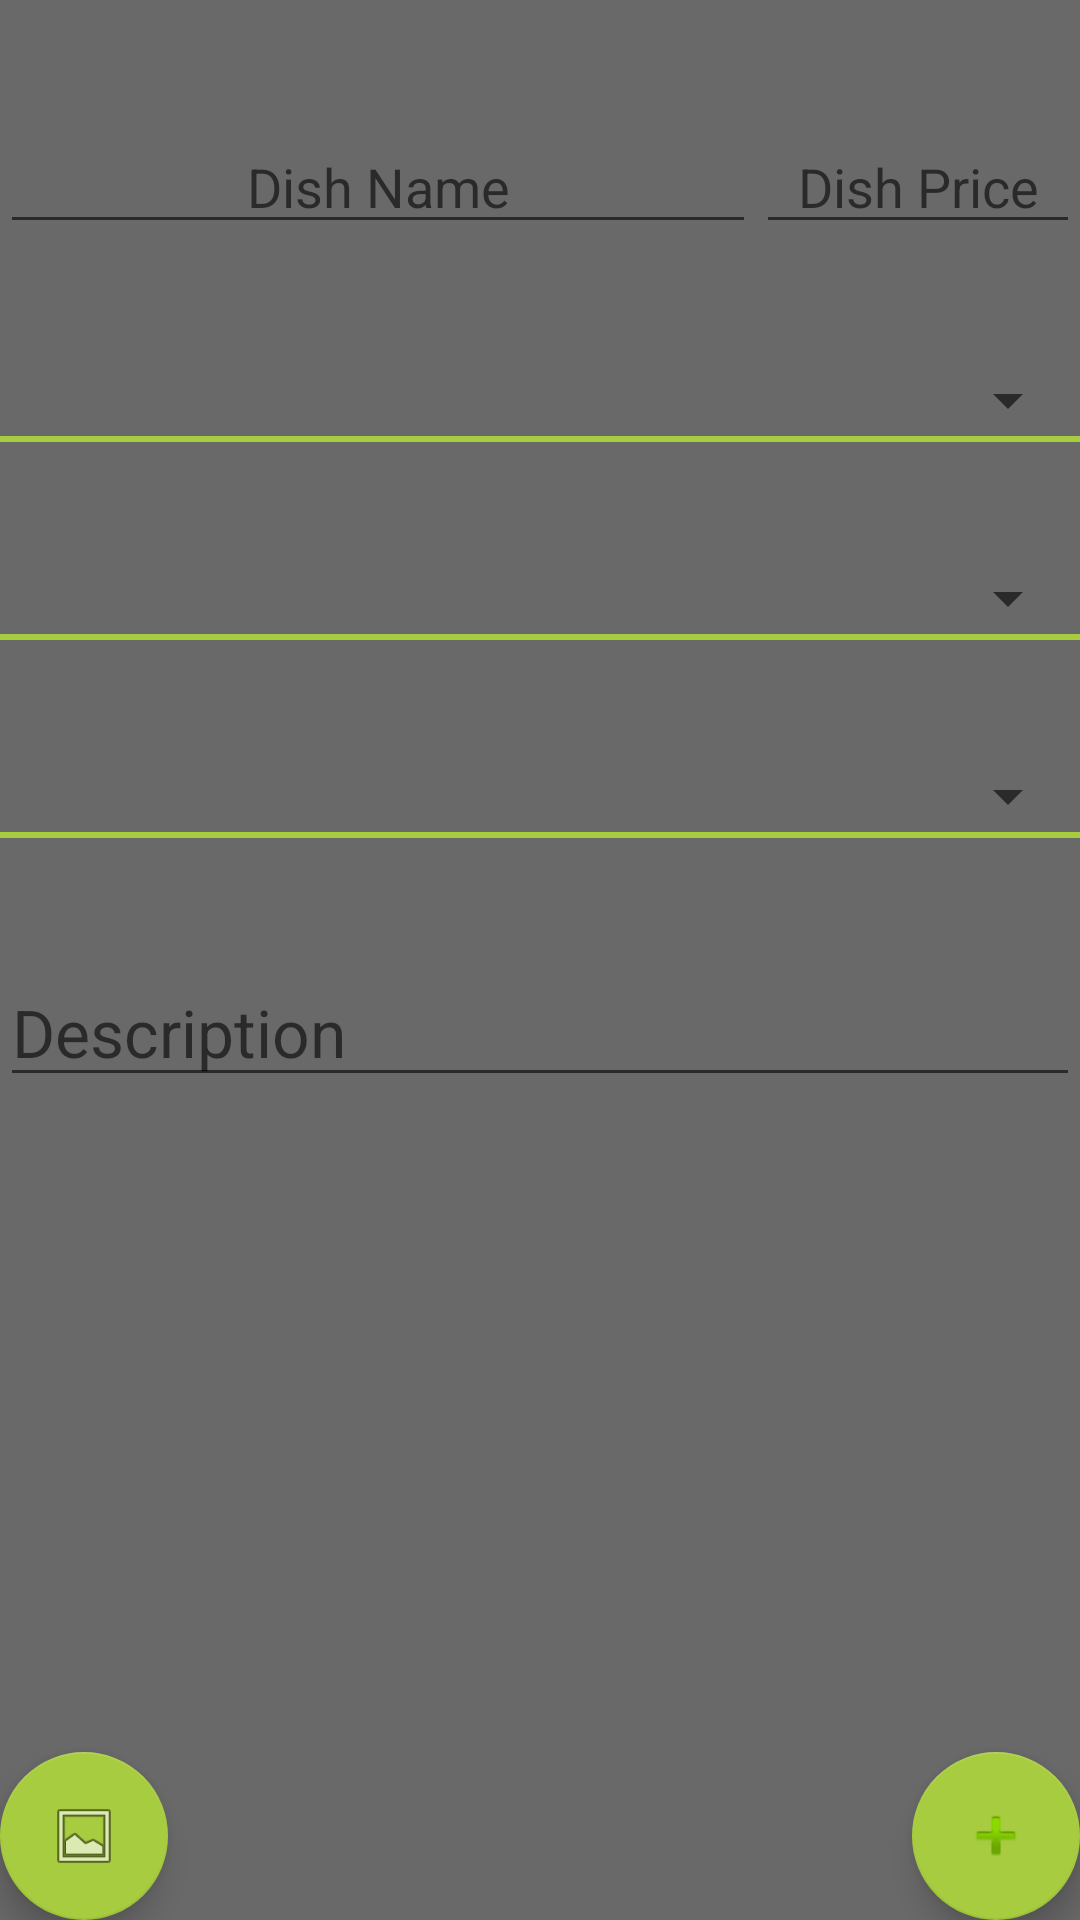

Icons on this 1080 x 1920 Android screen, each with its box as bbox=[x1, y1, x2, y2]:
add: bbox=[912, 1752, 1080, 1920]
gallery: bbox=[0, 1752, 168, 1920]
